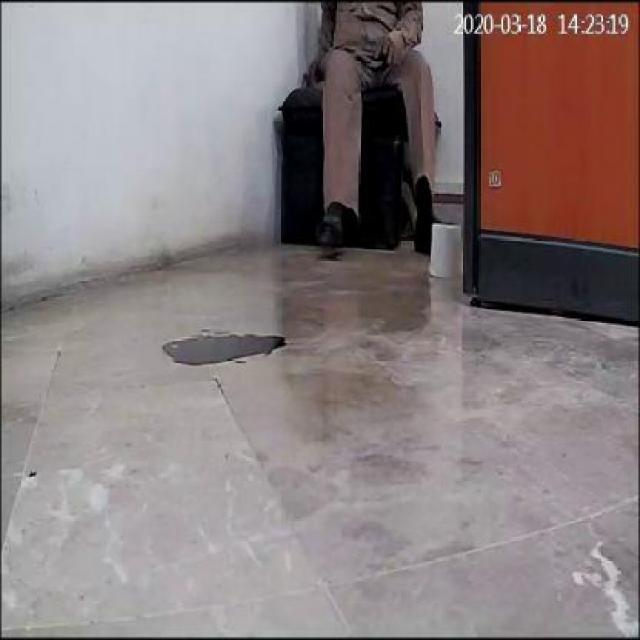spill: (165, 333, 282, 369)
